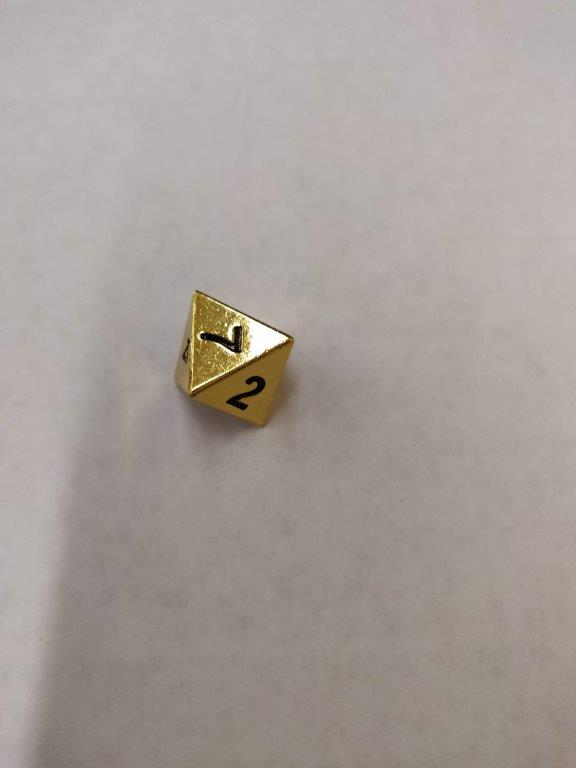d8-7: (171, 288, 293, 429)
